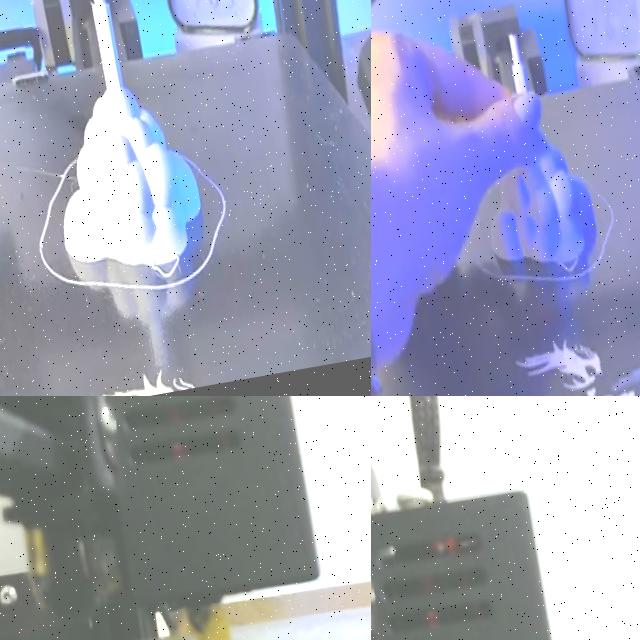spaghetti: (165, 604, 231, 640)
